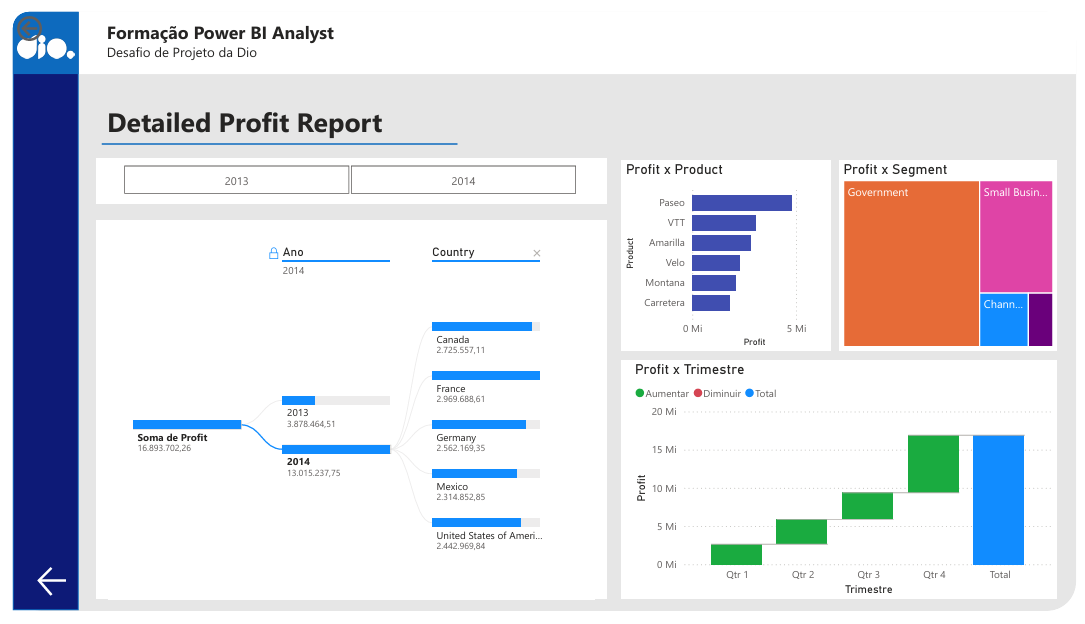

The dashboard page shown, as its layout file describes it:
{"tool":"powerbi","page":{"name":"Página 2","canvas":[1280,720],"ordinal":1},"visuals":[{"type":"shape","box":[0,0,1280.2,721.4],"z":0},{"type":"shape","box":[107.2,140.2,428,38],"z":0,"group":"g1"},{"type":"shape","box":[79,0,1201,74.9],"z":1000},{"type":"textbox","box":[108.4,103.9,432.6,62.1],"z":1000,"group":"g1"},{"type":"shape","box":[0,0,79.2,720],"z":2000},{"type":"shape","box":[0,0,79.2,74.9],"z":3000},{"type":"image","title":"Logo_Dio","box":[0,8.6,79.2,66.2],"z":4000},{"type":"textbox","box":[108,4.3,362.9,66.2],"z":5000},{"type":"group","id":"g1","title":"Title Report","box":[107.2,103.9,433.8,74.2],"z":6000},{"type":"actionButton","box":[24.7,663.1,54.4,44.5],"z":7000},{"type":"shape","box":[100.8,177.1,614.9,54.7],"z":8000},{"type":"shape","box":[100.8,250.6,614.9,456.5],"z":9000},{"type":"shape","box":[733,420.5,524.2,286.6],"z":10000},{"type":"shape","box":[733,178.6,252,229],"z":11000},{"type":"decompositionTreeVisual","fields":{"Analyze":["Sum(financials.Profit)"],"ExplainBy":["financials.Date.Variation.Hierarquia de datas.Ano","financials.Country"]},"box":[115.2,263.5,586.1,443.5],"z":12000},{"type":"shape","box":[995,178.6,262.1,229],"z":13000},{"type":"waterfallChart","title":"Profit x Trimestre","fields":{"Y":["Sum(financials.Profit)"],"Category":["financials.Date.Variation.Hierarquia de datas.Trimestre"]},"box":[744.5,420.5,512.6,286.6],"z":14000},{"type":"treemap","title":"Profit x Segment","fields":{"Values":["Sum(financials.Profit)"],"Group":["financials.Segment"]},"box":[995,178.6,262.1,229],"z":15000},{"type":"actionButton","box":[0,0,100,40],"z":17000},{"type":"slicer","fields":{"Values":["financials.Date.Variation.Hierarquia de datas.Ano"]},"box":[108,178,594,48],"z":18000},{"type":"clusteredBarChart","title":"Profit x Product","fields":{"Y":["Sum(financials.Profit)"],"Category":["financials.Product"]},"box":[733,178.6,252,229],"z":18001}]}

Visuals, with their boxes on the page's 1280x720 design canvas (x1, y1, x2, y2). These are canvas units, not pixel positions in the 1085x624 screenshot, which may show the page scaled, cropped or inside an application window:
shape: bbox(0, 0, 1280, 721)
shape: bbox(107, 140, 535, 178)
shape: bbox(79, 0, 1280, 75)
textbox: bbox(108, 104, 541, 166)
shape: bbox(0, 0, 79, 720)
shape: bbox(0, 0, 79, 75)
"Logo_Dio" image: bbox(0, 9, 79, 75)
textbox: bbox(108, 4, 471, 70)
"Title Report" group: bbox(107, 104, 541, 178)
actionButton: bbox(25, 663, 79, 708)
shape: bbox(101, 177, 716, 232)
shape: bbox(101, 251, 716, 707)
shape: bbox(733, 420, 1257, 707)
shape: bbox(733, 179, 985, 408)
decompositionTreeVisual - Sum(financials.Profit) x financials.Date.Variation.Hierarquia de datas.Ano: bbox(115, 264, 701, 707)
shape: bbox(995, 179, 1257, 408)
"Profit x Trimestre" waterfallChart: bbox(744, 420, 1257, 707)
"Profit x Segment" treemap: bbox(995, 179, 1257, 408)
actionButton: bbox(0, 0, 100, 40)
slicer - financials.Date.Variation.Hierarquia de datas.Ano: bbox(108, 178, 702, 226)
"Profit x Product" clusteredBarChart: bbox(733, 179, 985, 408)
